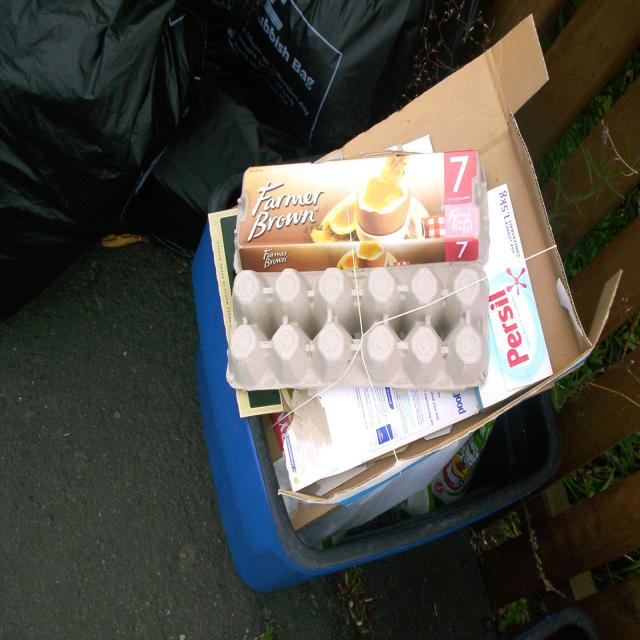cardboard: (444, 72, 529, 194)
